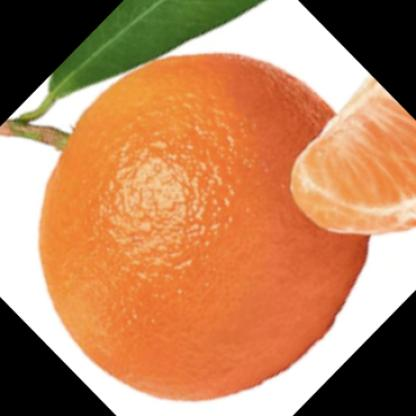fresh: (1, 54, 387, 402)
